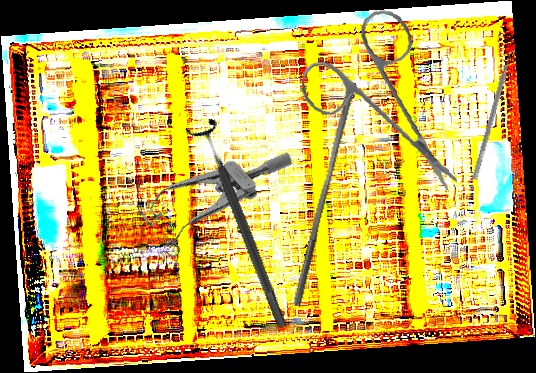Fixation Ring: (184, 116, 298, 334)
Iris Scissors: (291, 1, 477, 193)
Pusher: (292, 80, 358, 309)
Spatula Surgical: (471, 45, 519, 182)
Speculum: (123, 107, 297, 276)
